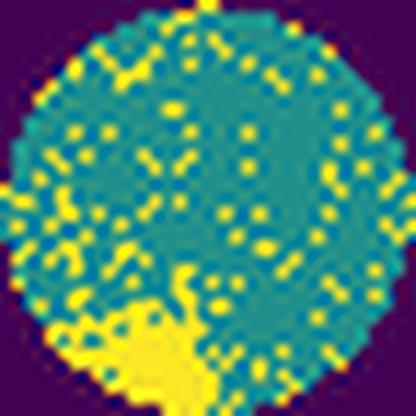Edge-Loc: (41, 260, 229, 415)
